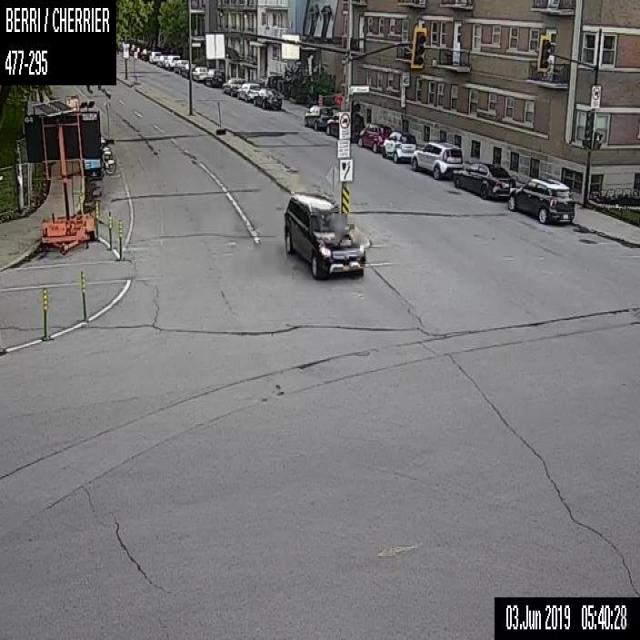construction: (23, 97, 101, 252), (101, 93, 114, 143), (79, 267, 87, 321), (326, 164, 338, 199), (214, 100, 225, 133), (107, 208, 112, 248), (118, 217, 122, 260), (43, 285, 46, 339), (94, 200, 98, 239), (334, 93, 342, 104), (318, 93, 322, 105)
vehicle: (283, 192, 365, 279), (507, 177, 574, 224), (451, 162, 515, 199), (410, 142, 462, 176), (326, 110, 363, 139), (382, 131, 415, 162), (357, 123, 392, 150), (304, 104, 333, 129), (252, 87, 282, 109), (237, 82, 260, 102), (222, 77, 246, 96), (202, 68, 224, 86), (191, 66, 207, 80), (164, 55, 180, 69), (181, 62, 195, 77), (173, 59, 187, 72), (149, 50, 160, 62), (140, 48, 151, 59), (157, 55, 166, 66), (136, 46, 141, 57)
